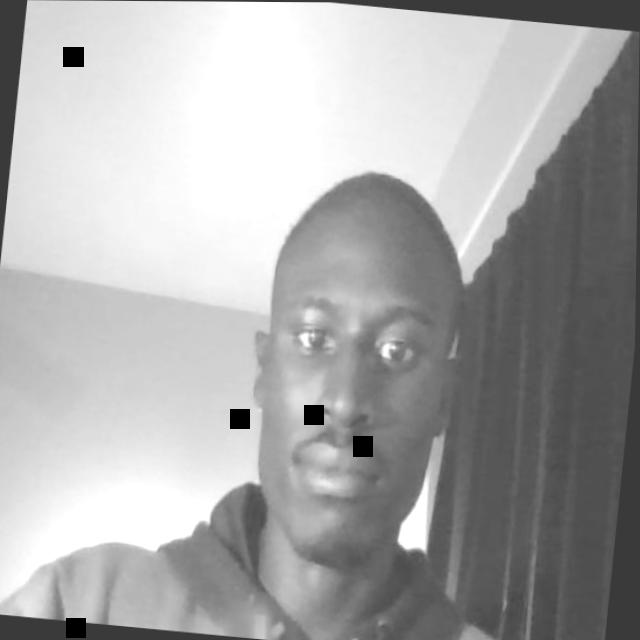NO-Mask: (246, 258, 453, 576)
